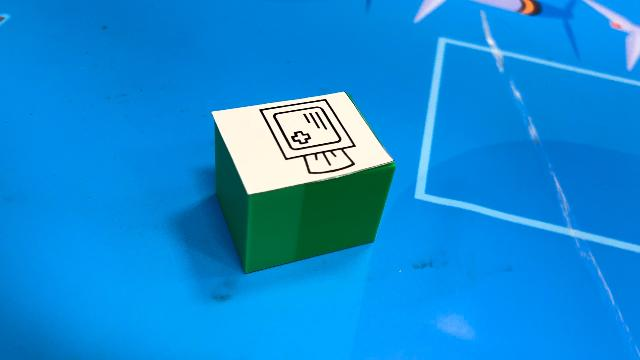napkin: (209, 90, 397, 274)
